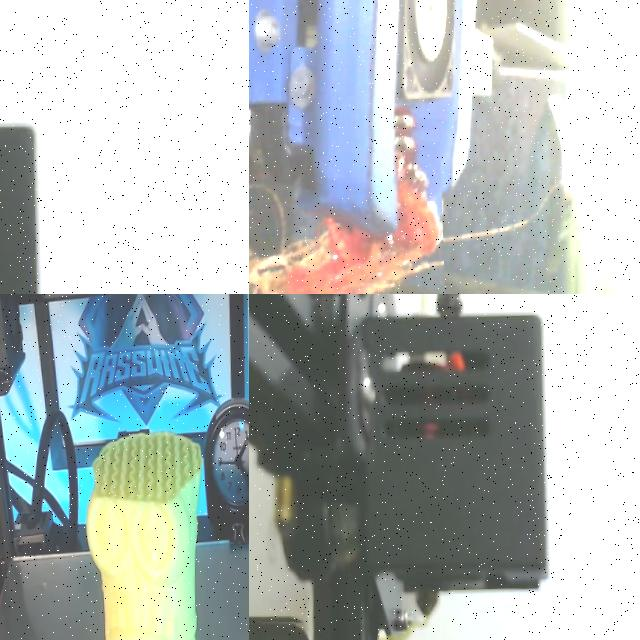spaghetti: (249, 110, 465, 294), (249, 124, 442, 294)
